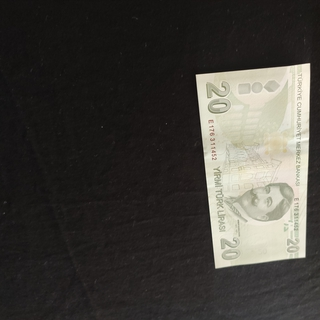20TLBack: (195, 62, 310, 269)
